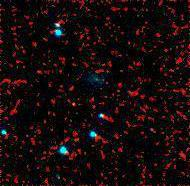star: (58, 92, 88, 122)
